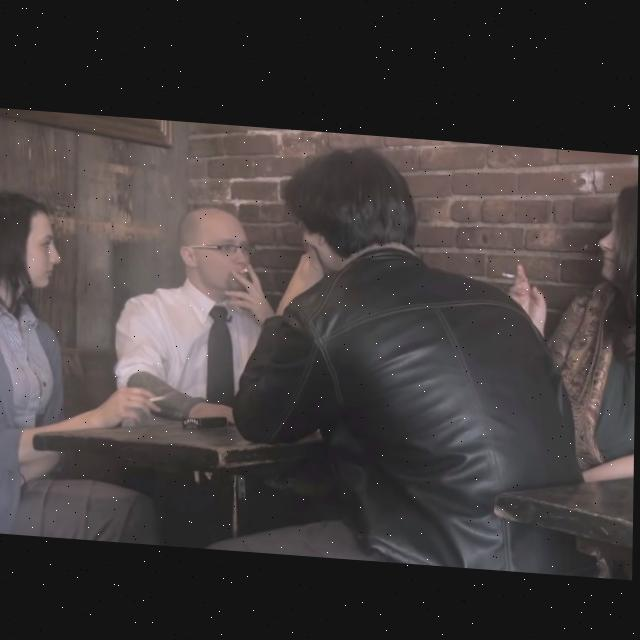cigarette: (150, 391, 167, 399), (502, 264, 516, 270), (242, 263, 249, 270)
